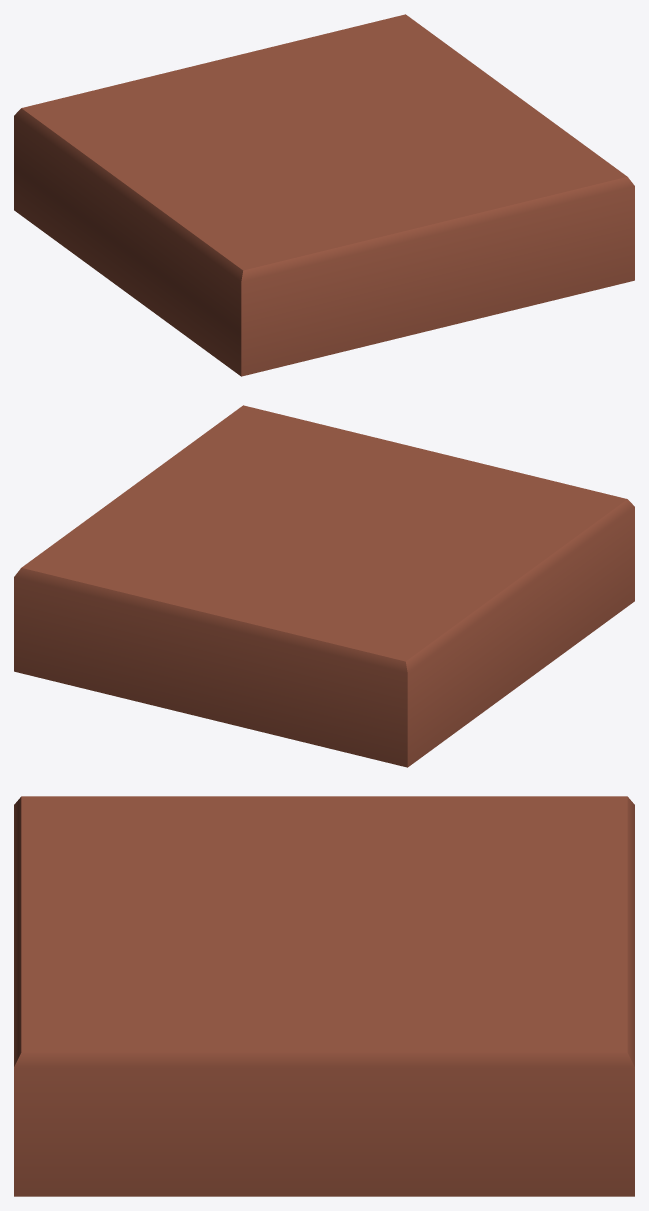
Rendered from square_water_detail_empty.glb.
The picture shows the model from 3 angles, top to bottom: view 1: azimuth 30°, elevation 25°; view 2: azimuth 150°, elevation 25°; view 3: azimuth 270°, elevation 25°; orthographic projection. The views are drawn at different scales.
Visible parts, largest first — view 1: square_water_detail_empty; view 2: square_water_detail_empty; view 3: square_water_detail_empty.
Boxes of the visible parts, x1,y1,x2,y2 form: square_water_detail_empty: (14, 14, 634, 376); square_water_detail_empty: (14, 405, 634, 767); square_water_detail_empty: (14, 796, 634, 1196).
Size of the model in its own units: 3.82 by 0.954 by 3.82.
